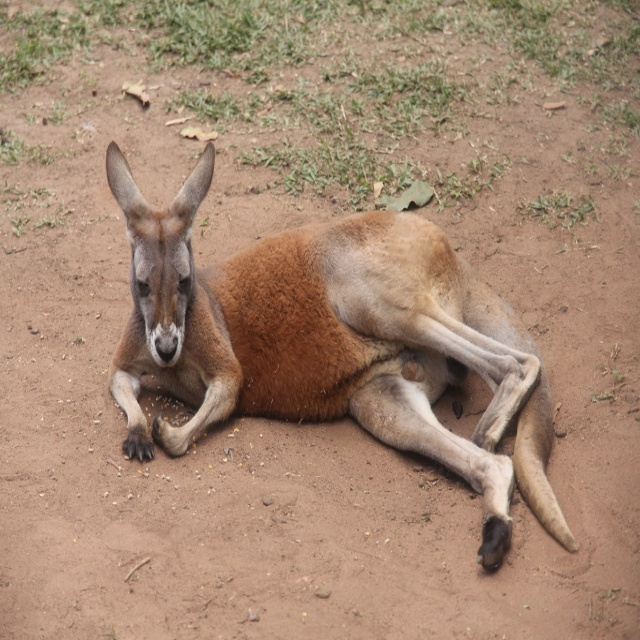Kangaroo: (107, 139, 578, 569)
